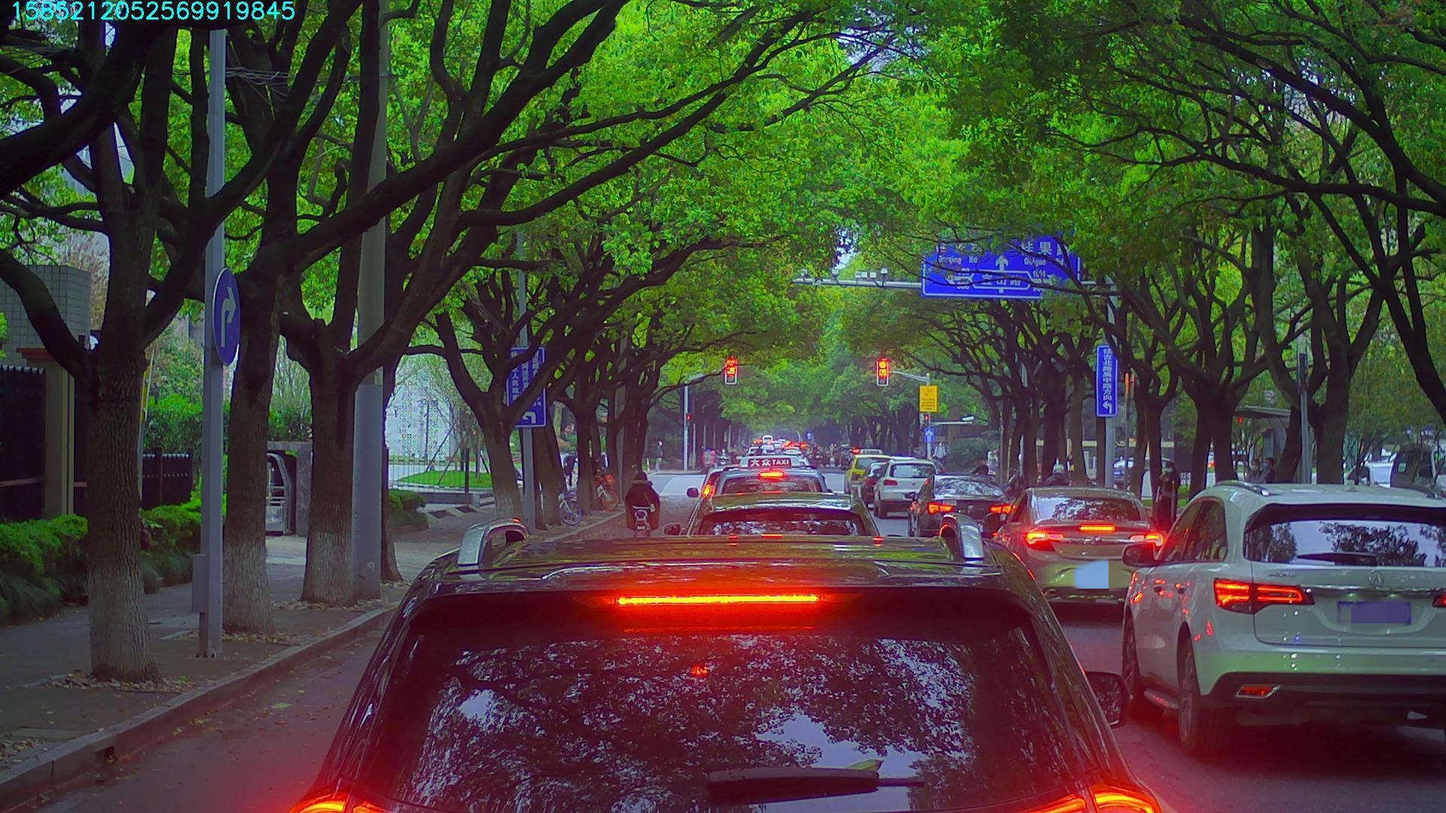red: (877, 358, 887, 385), (725, 358, 736, 382)
